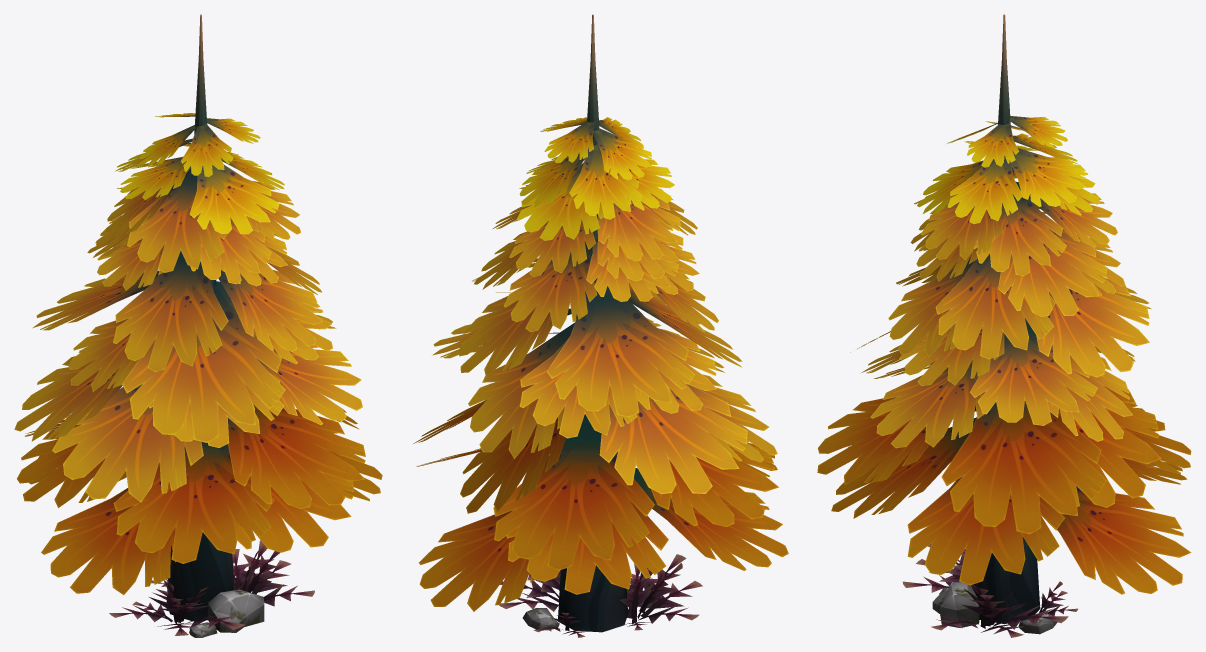
Rendered from AutumnTrees.FBX.
3 renders of one model, left to right at view 1: azimuth 30°, elevation 25°; view 2: azimuth 150°, elevation 25°; view 3: azimuth 270°, elevation 25°, orthographic.
Parts seen in each view (by area): view 1: Cylinder002; view 2: Cylinder002; view 3: Cylinder002.
Part boxes in pixels (box(x1,y1,x2,y2)): Cylinder002: box(14, 14, 382, 637); Cylinder002: box(413, 14, 788, 637); Cylinder002: box(817, 14, 1191, 637).
Size of the model in its own units: 224 by 379 by 215.
Materials: 1 (1 with a texture image).
